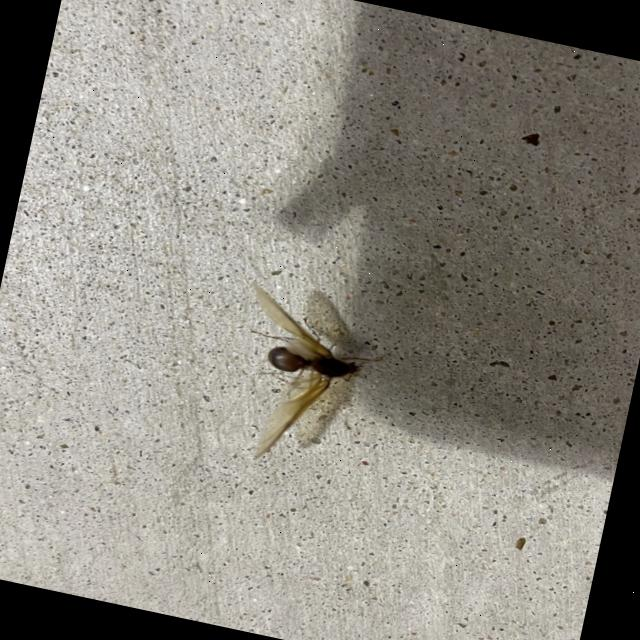Alive-Male-Alate: (216, 282, 392, 481)
